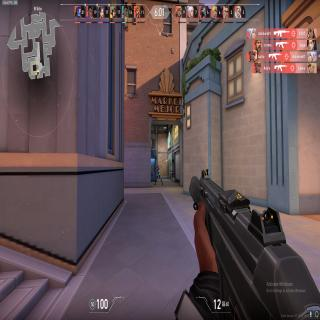ENEMY-BODY: (156, 164, 160, 187)
ENEMY-HEAD: (158, 165, 159, 169)
